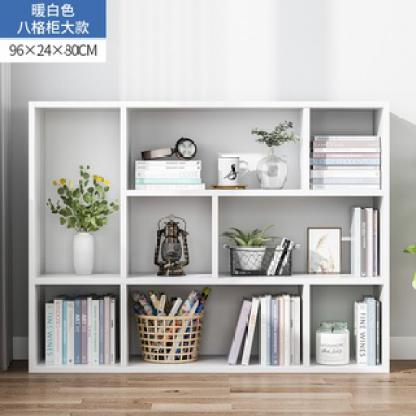lamp: (28, 100, 390, 374)
